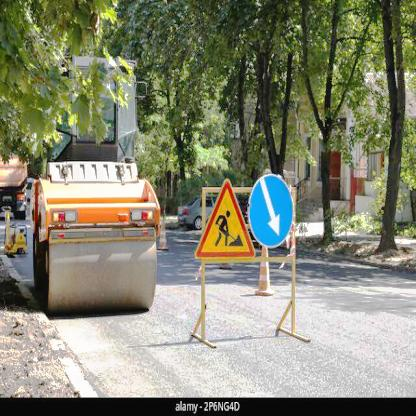Keep right: (249, 172, 294, 250)
